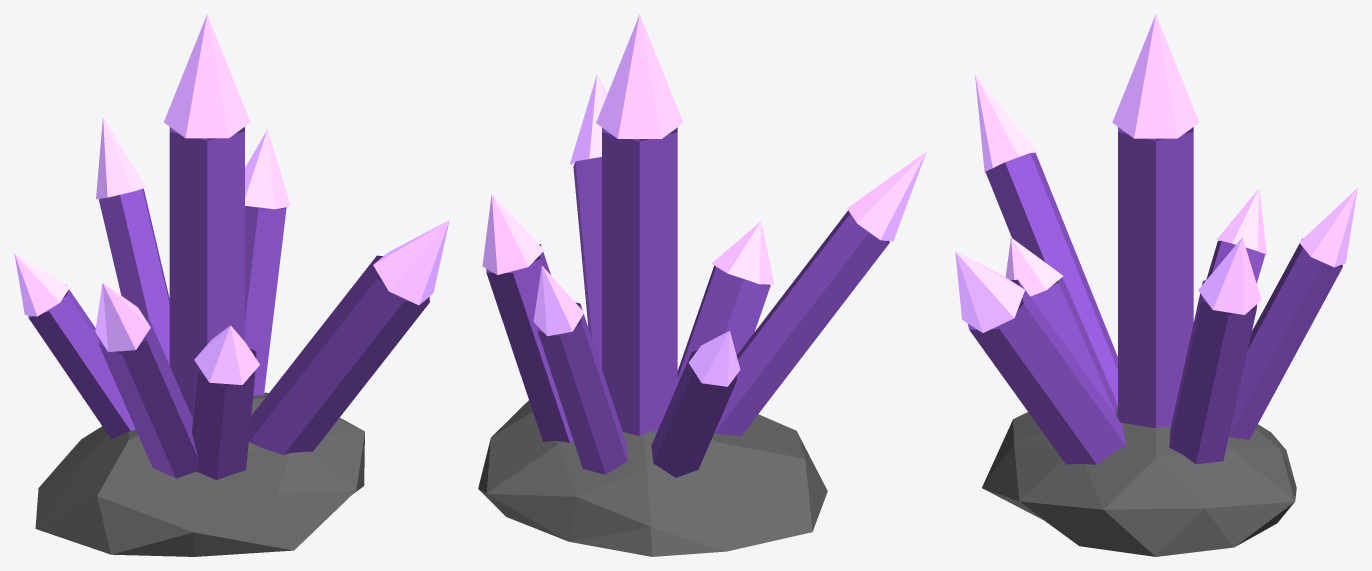
Rendered from crystals_c.glb.
The picture shows the model from 3 angles, left to right: view 1: azimuth 30°, elevation 25°; view 2: azimuth 150°, elevation 25°; view 3: azimuth 270°, elevation 25°; orthographic projection.
Visible parts, largest first — view 1: crystals_c; view 2: crystals_c; view 3: crystals_c.
Boxes of the visible parts, x1=… form: crystals_c: x1=14, y1=14, x2=449, y2=556; crystals_c: x1=478, y1=14, x2=926, y2=556; crystals_c: x1=955, y1=14, x2=1357, y2=556.
Bounding box in the file's own units: 0.9 × 1.2 × 0.9233.
